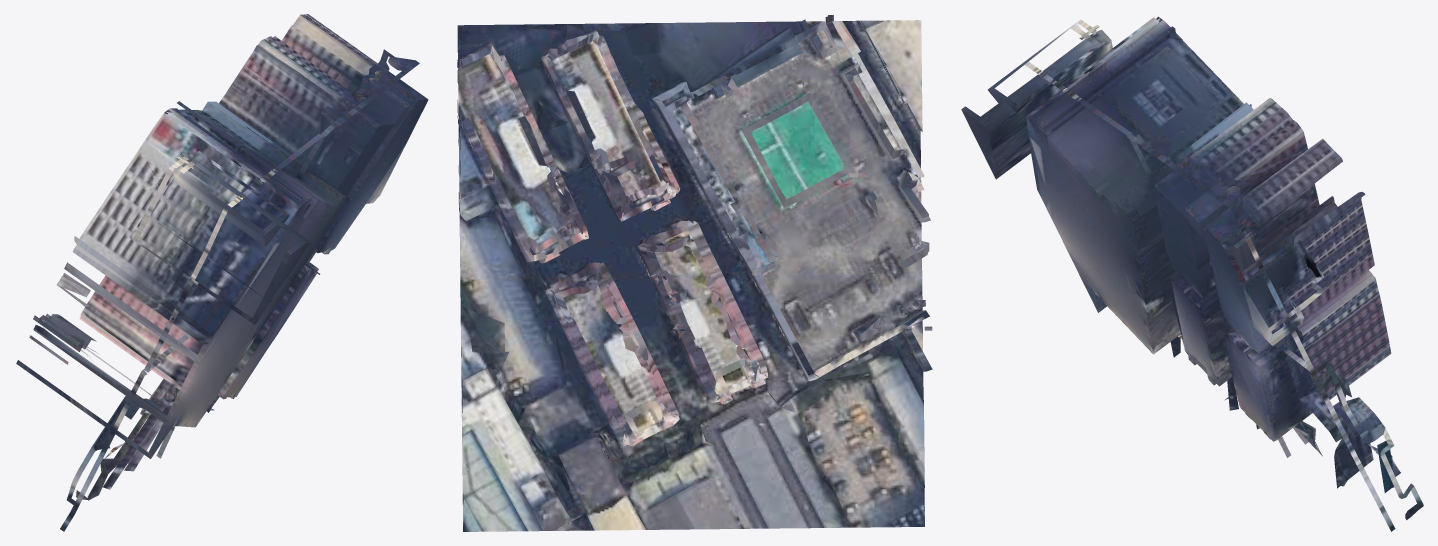
3 views of the same model, side by side, from view 1: azimuth 30°, elevation 25°; view 2: azimuth 150°, elevation 25°; view 3: azimuth 270°, elevation 25° (orthographic). The views are drawn at different scales.
Bounding box in the file's own units: 166 × 158 × 159.
2 materials, 2 textured.
